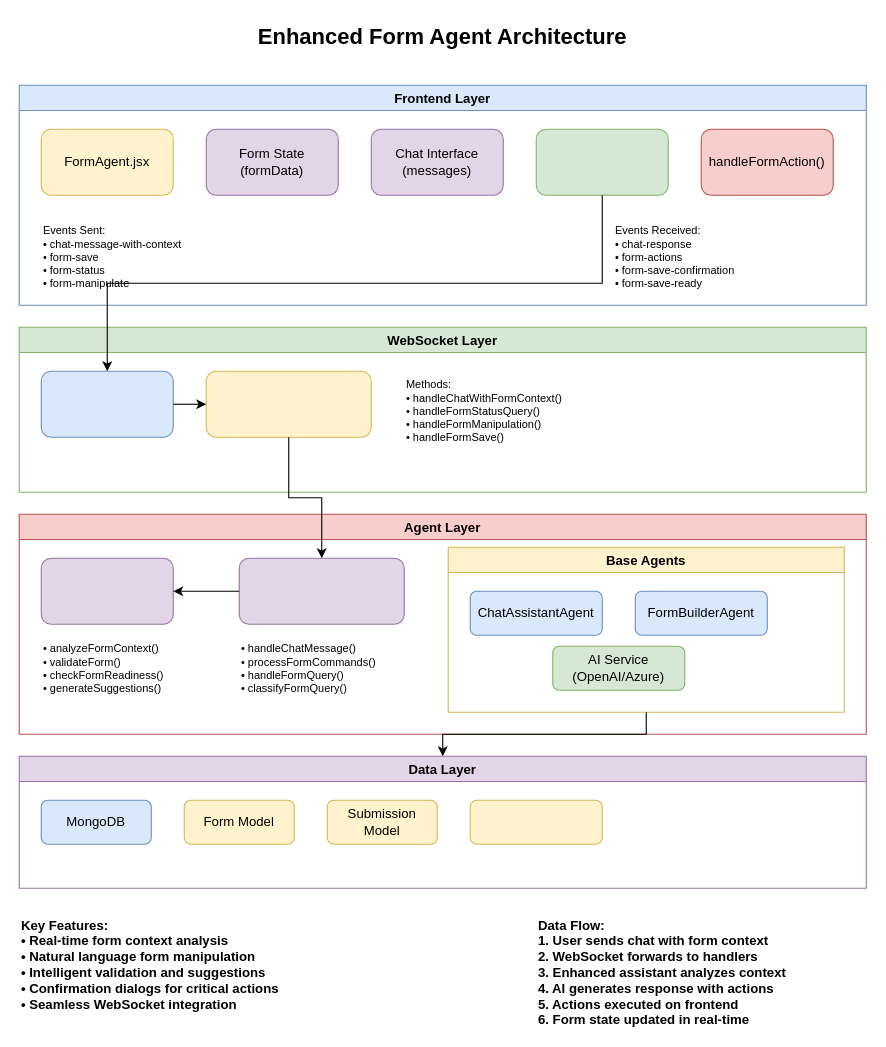
The diagram is 886 pixels wide and 1047 high, and some of its shapes have lost their labels. Each missing label, with the centre of its shape:
"Conversation History" goes at point 535,821.
"EnhancedChatAssistant" goes at point 321,590.
"EnhancedFormHandlers" goes at point 288,403.
"FormContextAgent" goes at point 106,590.
"server.js (Socket.IO Server)" goes at point 106,403.
"WebSocket Client (socket.io)" goes at point 601,161.
